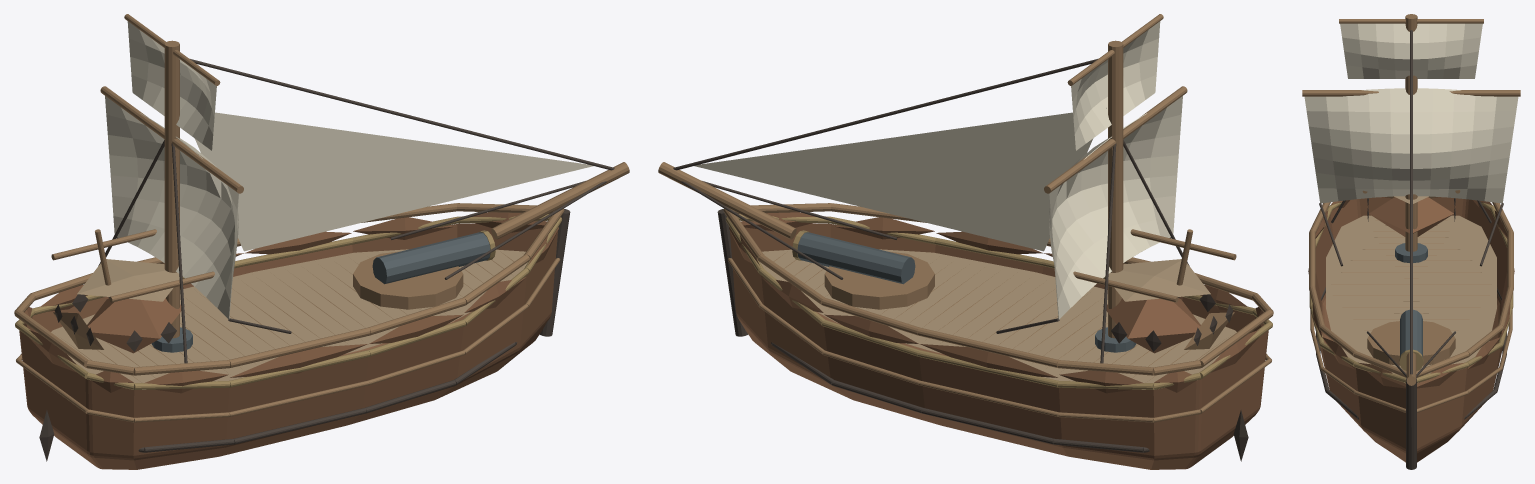
File: warship.glb
The picture shows the model from 3 angles, left to right: view 1: azimuth 30°, elevation 25°; view 2: azimuth 150°, elevation 25°; view 3: azimuth 270°, elevation 25°; orthographic projection. The views are drawn at different scales.
Visible parts, largest first — view 1: Hull, Gun; view 2: Hull, Gun; view 3: Hull, Gun.
Boxes of the visible parts, x1,y1,x2,y2 form: Hull: [14, 14, 629, 469]; Gun: [353, 230, 495, 309]; Hull: [658, 14, 1273, 469]; Gun: [792, 230, 934, 309]; Hull: [1302, 14, 1520, 469]; Gun: [1367, 309, 1455, 370].
Size of the model in its own units: 197 by 124 by 79.2.
